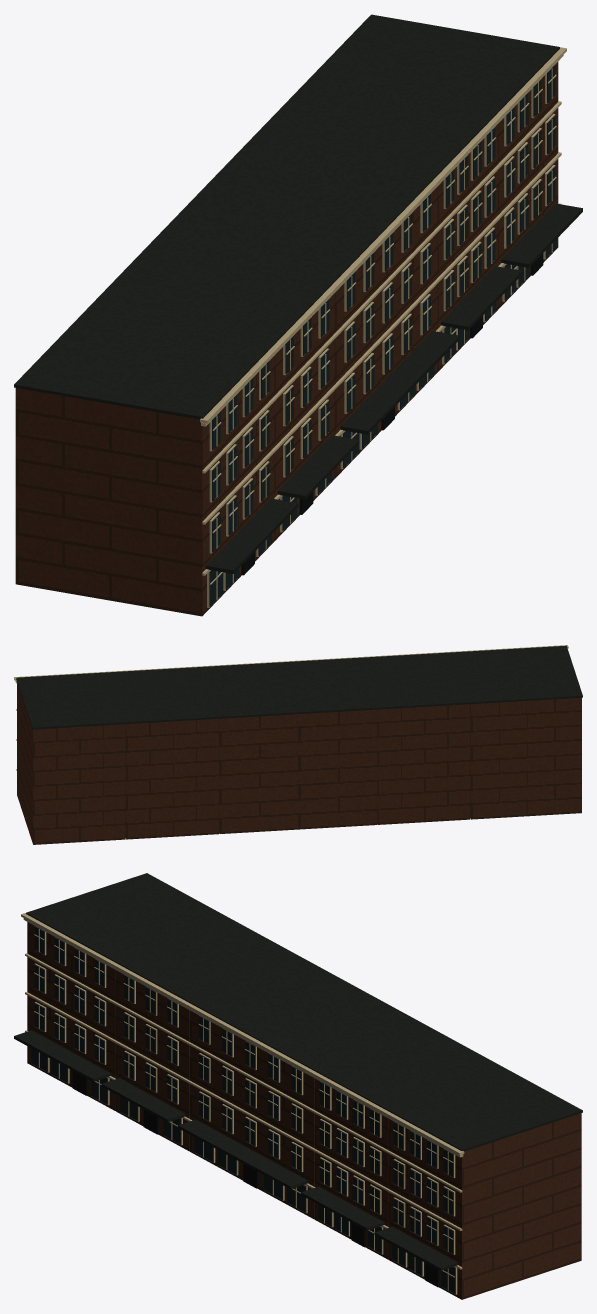
3 views of the same model, one above another, from view 1: azimuth 30°, elevation 25°; view 2: azimuth 150°, elevation 25°; view 3: azimuth 270°, elevation 25° (orthographic). The views are drawn at different scales.
Visible parts, largest first — view 1: heerenstraat-winkels-1, heerenstraat-winkels-0, heerenstraat-winkels-2, heerenstraat-winkels-3, heerenstraat-winkels-4; view 2: heerenstraat-winkels-0, heerenstraat-winkels-1, heerenstraat-winkels-2; view 3: heerenstraat-winkels-1, heerenstraat-winkels-0, heerenstraat-winkels-3, heerenstraat-winkels-2, heerenstraat-winkels-4.
Part boxes in pixels (x1,y1,x2,y2): heerenstraat-winkels-1: (14,14,582,573); heerenstraat-winkels-0: (15,62,558,616); heerenstraat-winkels-2: (200,47,566,607); heerenstraat-winkels-3: (209,64,557,606); heerenstraat-winkels-4: (241,253,543,575); heerenstraat-winkels-0: (17,683,581,844); heerenstraat-winkels-1: (16,645,582,729); heerenstraat-winkels-2: (14,645,568,770); heerenstraat-winkels-1: (14,873,582,1270); heerenstraat-winkels-0: (27,922,581,1299); heerenstraat-winkels-3: (31,926,455,1293); heerenstraat-winkels-2: (21,913,464,1294); heerenstraat-winkels-4: (72,1071,439,1287).
Bounding box in the file's own units: 65.73 × 16.44 × 56.38.
Materials: 5 (5 with a texture image).
